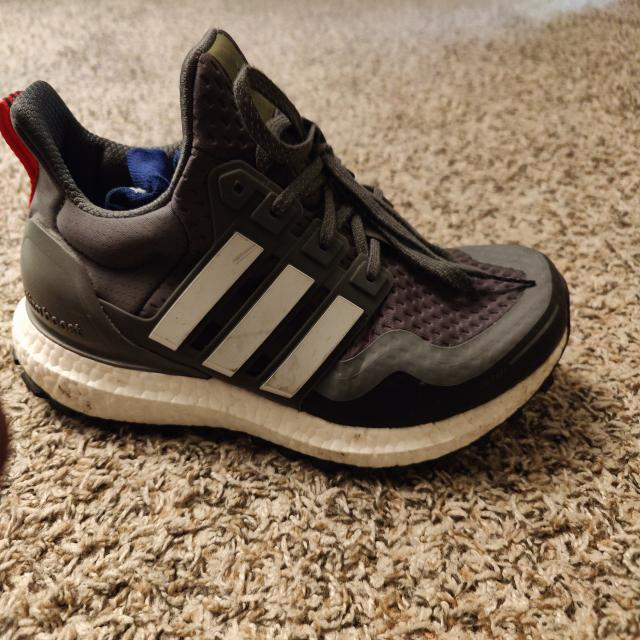black shoes: (16, 42, 564, 471)
